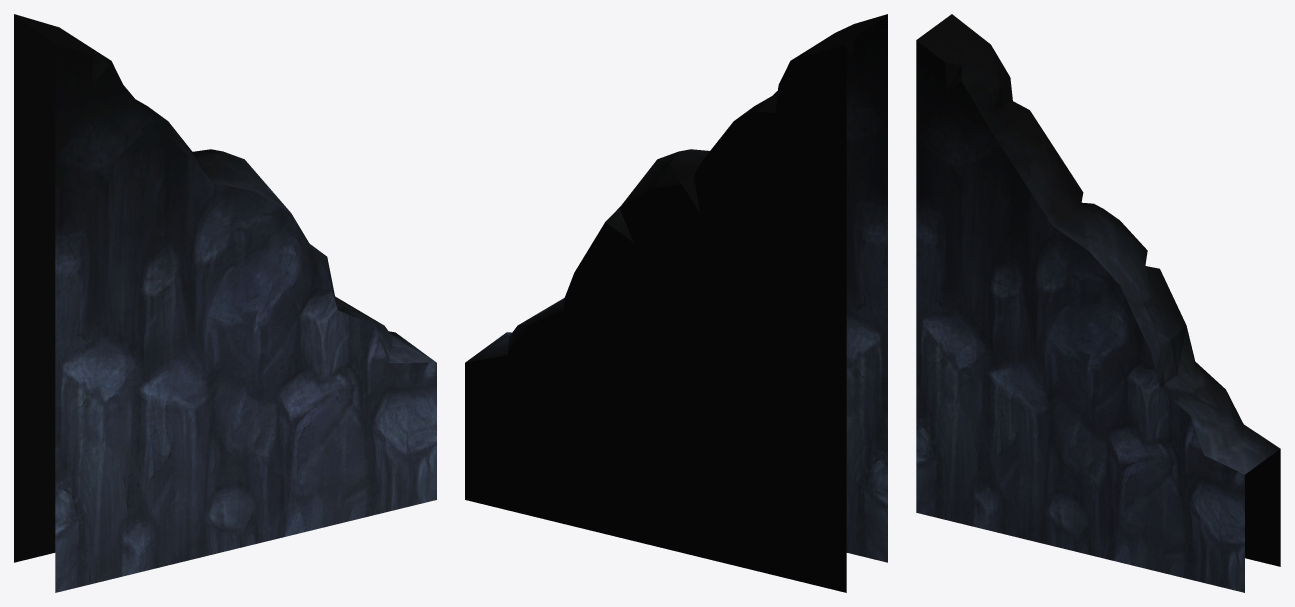
File: mine_fade_transition_05.fbx
3 renders of one model, left to right at view 1: azimuth 30°, elevation 25°; view 2: azimuth 150°, elevation 25°; view 3: azimuth 330°, elevation 25°, orthographic. The views are drawn at different scales.
Parts seen in each view (by area): view 1: mine_fade_transition_05-0; view 2: mine_fade_transition_05-0; view 3: mine_fade_transition_05-0.
Boxes of the visible parts, x1,y1,x2,y2 form: mine_fade_transition_05-0: [14, 14, 436, 592]; mine_fade_transition_05-0: [465, 14, 887, 592]; mine_fade_transition_05-0: [916, 14, 1280, 592].
Bounding box in the file's own units: 4 × 5.5 × 0.75.
